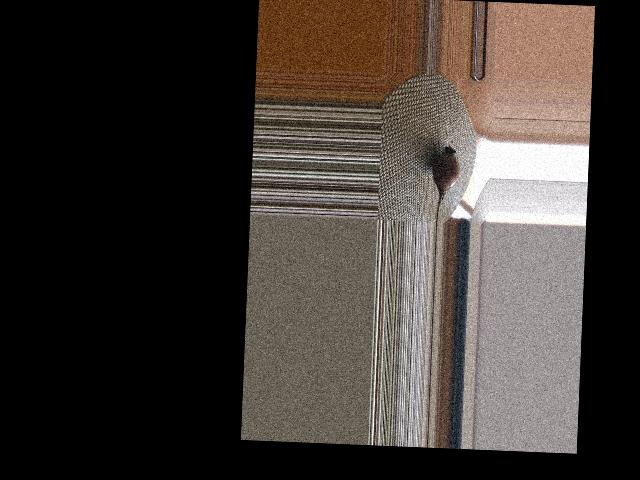beet: (430, 145, 460, 222)
